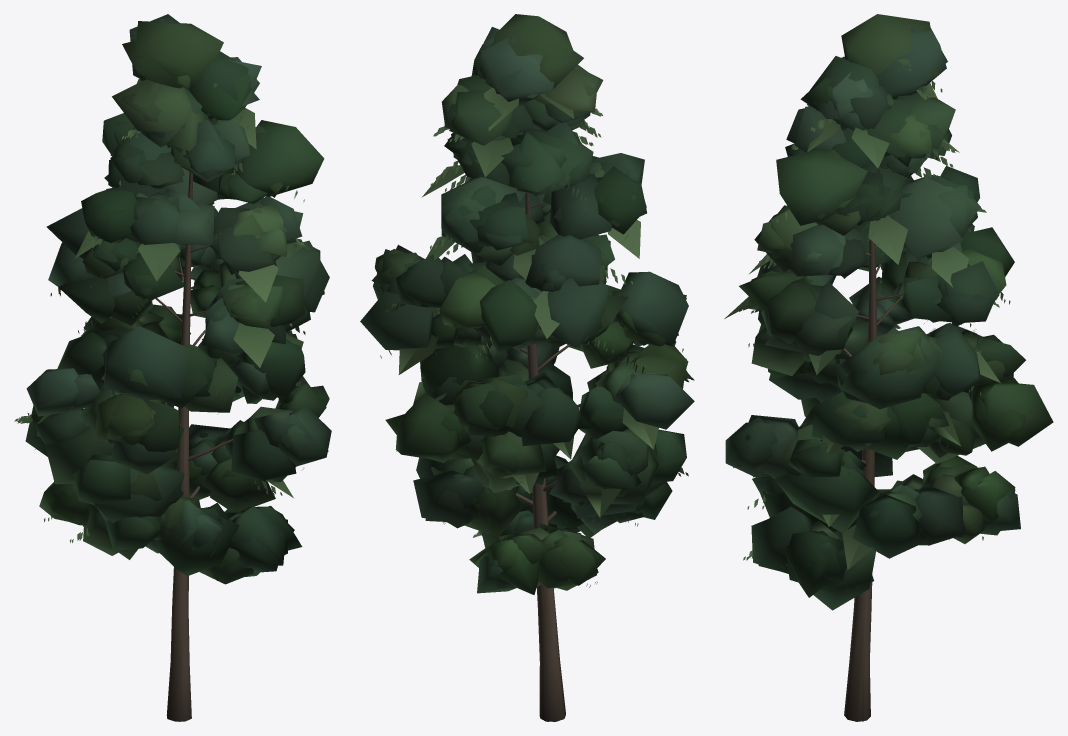
File: white-cedar.glb
3 views of the same model, side by side, from view 1: azimuth 30°, elevation 25°; view 2: azimuth 150°, elevation 25°; view 3: azimuth 270°, elevation 25° (orthographic). The views are drawn at different scales.
Visible parts, largest first — view 1: white-cedar, white-cedar-lo; view 2: white-cedar, white-cedar-lo; view 3: white-cedar, white-cedar-lo.
Part boxes in pixels (left/top/right/bottom): white-cedar: left=14, top=18, right=331, bottom=721; white-cedar-lo: left=25, top=14, right=329, bottom=721; white-cedar: left=360, top=27, right=694, bottom=721; white-cedar-lo: left=373, top=14, right=688, bottom=721; white-cedar: left=725, top=26, right=1053, bottom=721; white-cedar-lo: left=724, top=14, right=1020, bottom=721.
Size of the model in its own units: 6.77 by 15 by 6.38.
